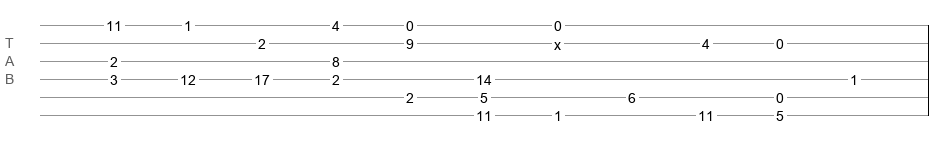0: (406, 18, 414, 28), (554, 18, 562, 28), (776, 90, 784, 100), (776, 36, 784, 46)
1: (184, 18, 192, 28), (554, 108, 562, 118), (850, 72, 858, 82)
11: (106, 18, 122, 28), (476, 108, 492, 118), (698, 108, 714, 118)
12: (180, 72, 196, 82)
14: (476, 72, 492, 82)
17: (254, 72, 270, 82)
2: (110, 54, 118, 64), (258, 36, 266, 46), (332, 72, 340, 82), (406, 90, 414, 100)
3: (110, 72, 118, 82)
4: (332, 18, 340, 28), (702, 36, 710, 46)
5: (480, 90, 488, 100), (776, 108, 784, 118)
6: (628, 90, 636, 100)
8: (332, 54, 340, 64)
9: (406, 36, 414, 46)
x: (554, 37, 561, 45)
